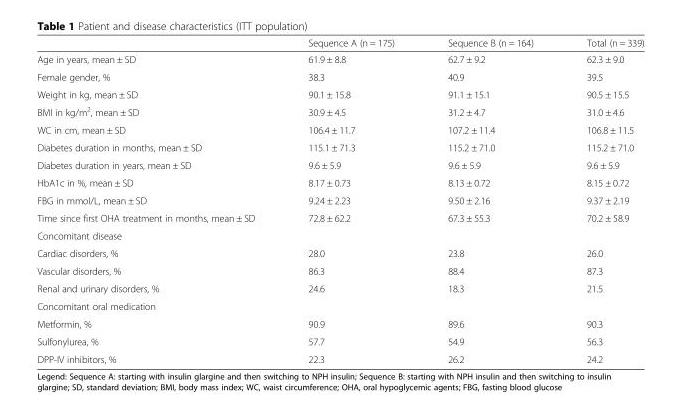table: (36, 36, 643, 364)
table column: (36, 36, 280, 364), (280, 36, 420, 364), (420, 36, 559, 364), (559, 36, 643, 364)
table column header: (36, 36, 643, 50)
table projected row header: (36, 226, 643, 244), (36, 297, 643, 314)
table row: (36, 67, 643, 85), (36, 102, 643, 120), (36, 120, 643, 138), (36, 138, 643, 156), (36, 173, 643, 191), (36, 208, 643, 226), (36, 226, 643, 244), (36, 261, 643, 279), (36, 279, 643, 297), (36, 314, 643, 332), (36, 332, 643, 350), (36, 50, 643, 67), (36, 85, 643, 102), (36, 156, 643, 173), (36, 191, 643, 208), (36, 244, 643, 261), (36, 297, 643, 314), (36, 36, 643, 50), (36, 350, 643, 364)
